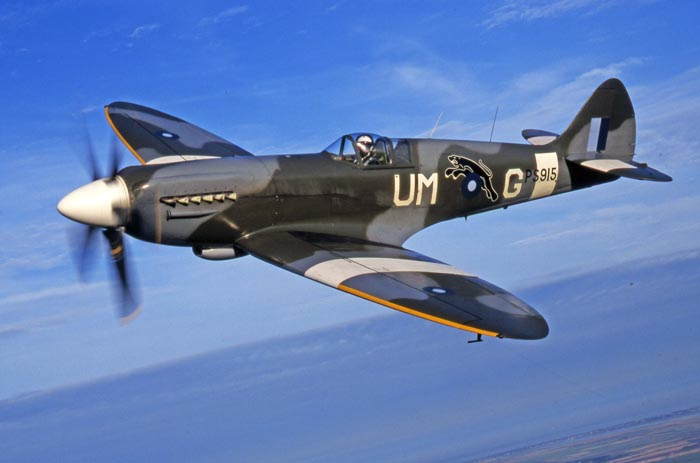Propeller: (60, 130, 144, 316)
